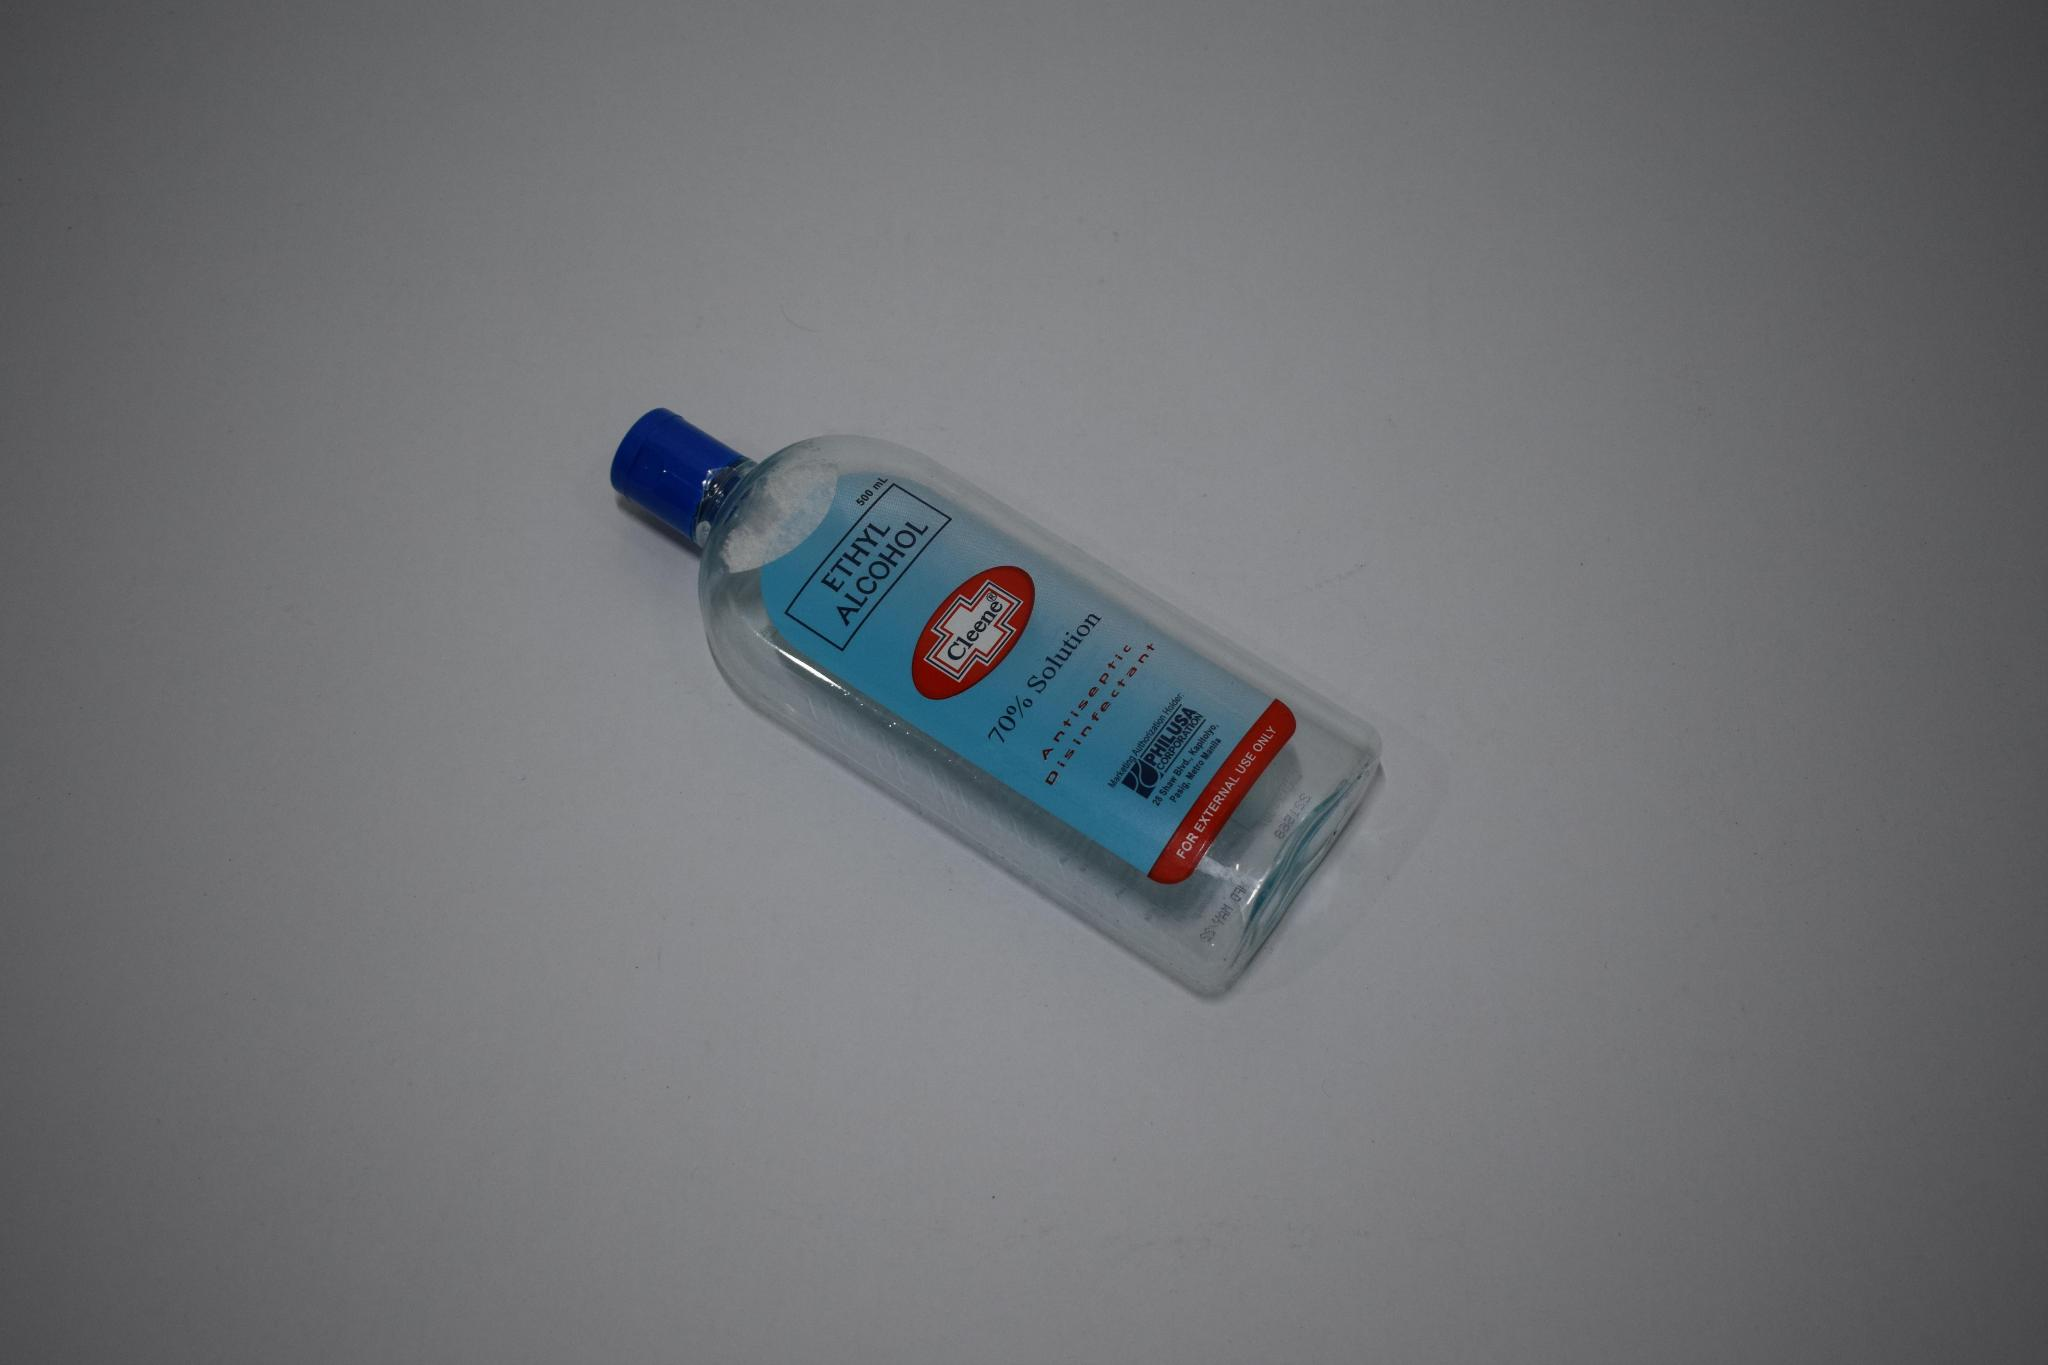bottle: (601, 390, 1415, 1037)
